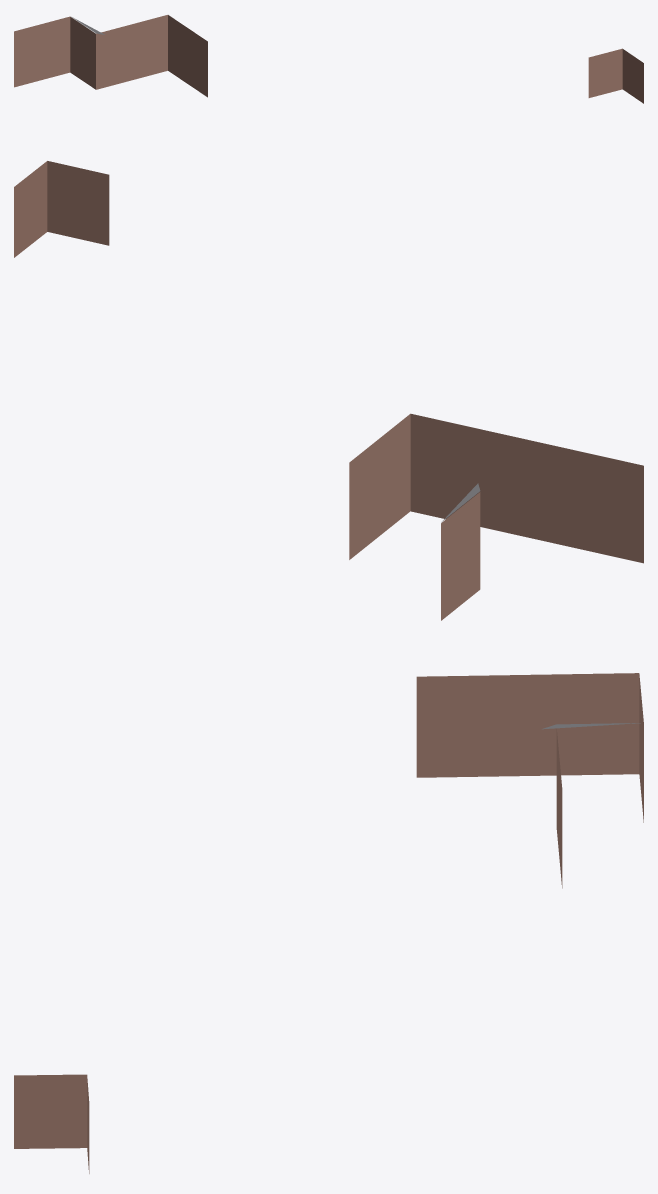
File: c_1633_17833_buildings_residential.glb
The picture shows the model from 3 angles, top to bottom: view 1: azimuth 30°, elevation 25°; view 2: azimuth 150°, elevation 25°; view 3: azimuth 270°, elevation 25°; orthographic projection. The views are drawn at different scales.
Visible parts, largest first — view 1: geometry_0; view 2: geometry_0; view 3: geometry_0.
Part boxes in pixels (<box>): geometry_0: <box>14,15,643,103</box>; geometry_0: <box>14,161,643,620</box>; geometry_0: <box>14,673,643,1173</box>.
Bounding box in the file's own units: 93.87 × 11.4 × 62.09.
